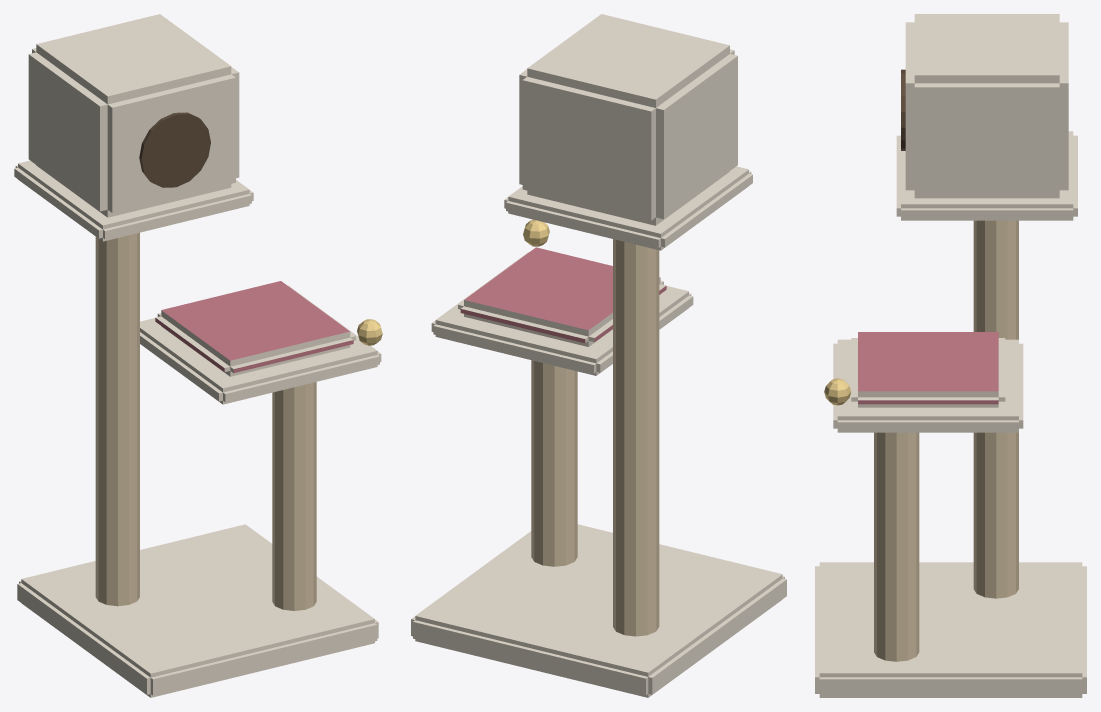
The model's file is torre_gato.glb.
3 renders of one model, left to right at view 1: azimuth 30°, elevation 25°; view 2: azimuth 150°, elevation 25°; view 3: azimuth 270°, elevation 25°, orthographic. The views are drawn at different scales.
Parts seen in each view (by area): view 1: torre_gato; view 2: torre_gato; view 3: torre_gato.
Boxes of the visible parts, <box> form: torre_gato: <box>14,14,382,697</box>; torre_gato: <box>411,14,786,697</box>; torre_gato: <box>815,14,1086,697</box>.
Size of the model in its own units: 0.65 by 1.4 by 0.6.
